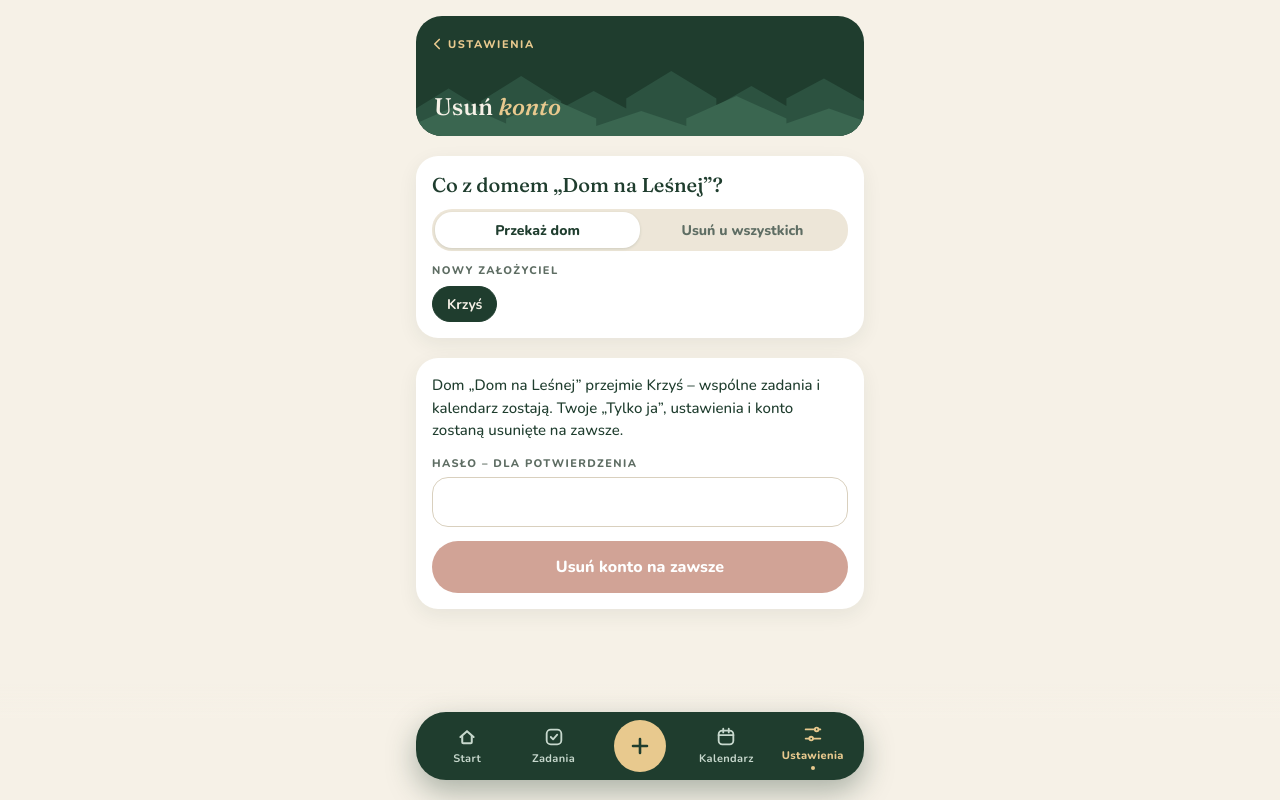
Test: złe hasło – komunikat, nic nie usunięte, zostajemy na ekranie
The width and height of the screenshot is (1280, 800).
In the password field labelled "HASŁO – DLA POTWIERDZENIA": (640, 502) [432, 476, 848, 526], type "zle"
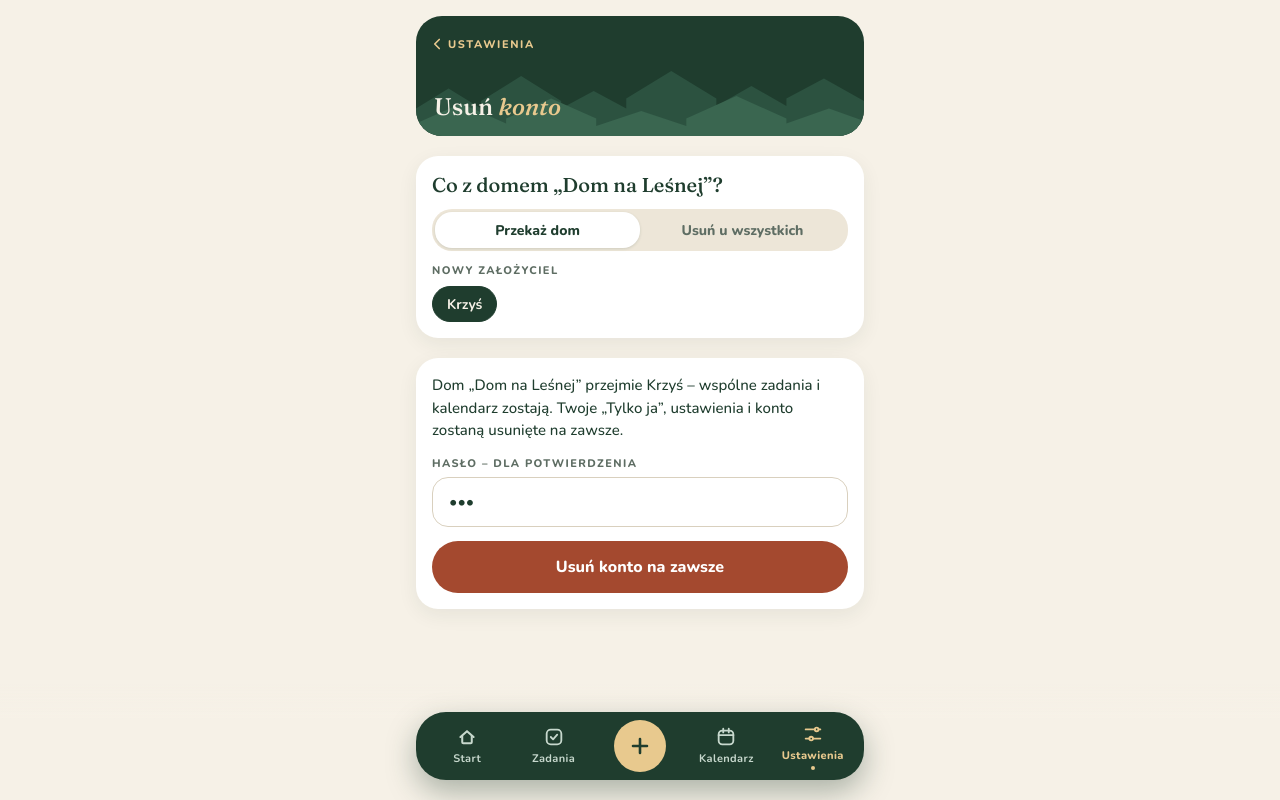
Click the button "Usuń konto na zawsze": (640, 566) [432, 540, 848, 592]
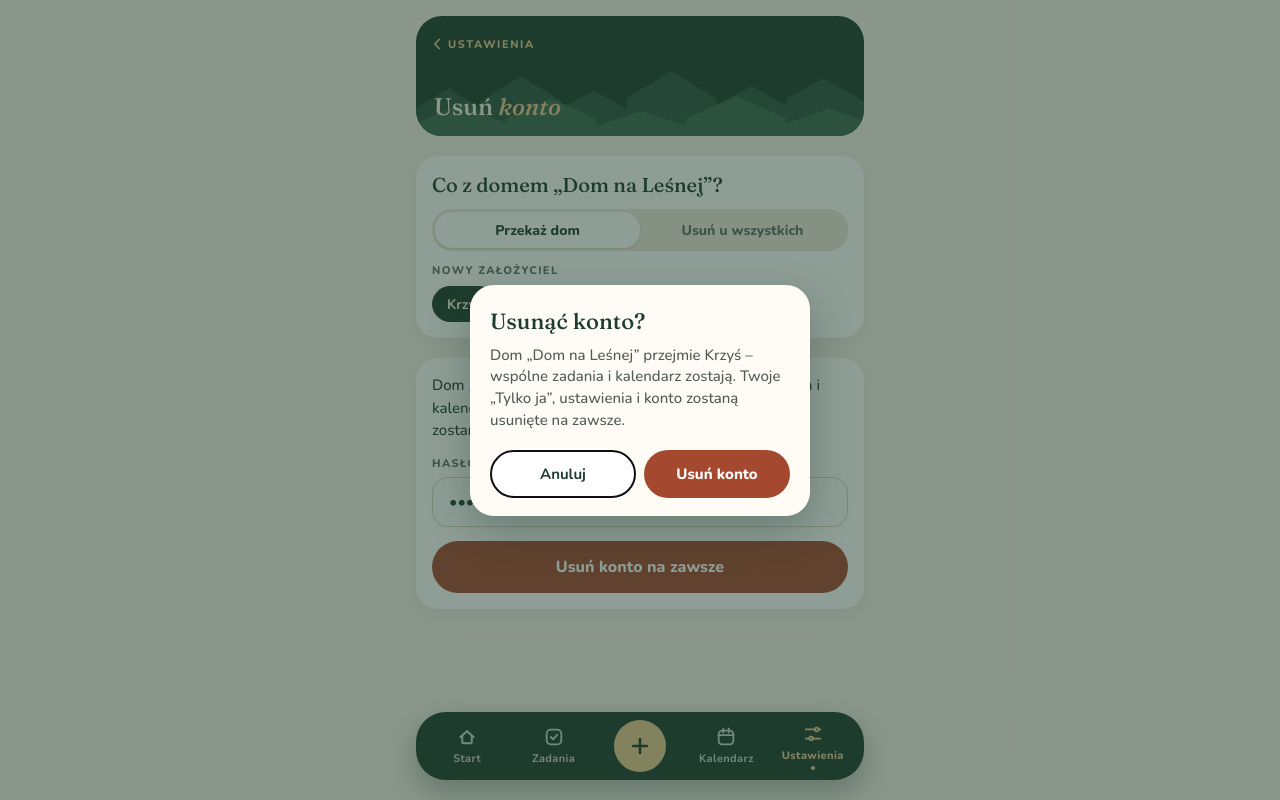
Click the button "Usuń konto": (717, 474) [644, 450, 790, 498]
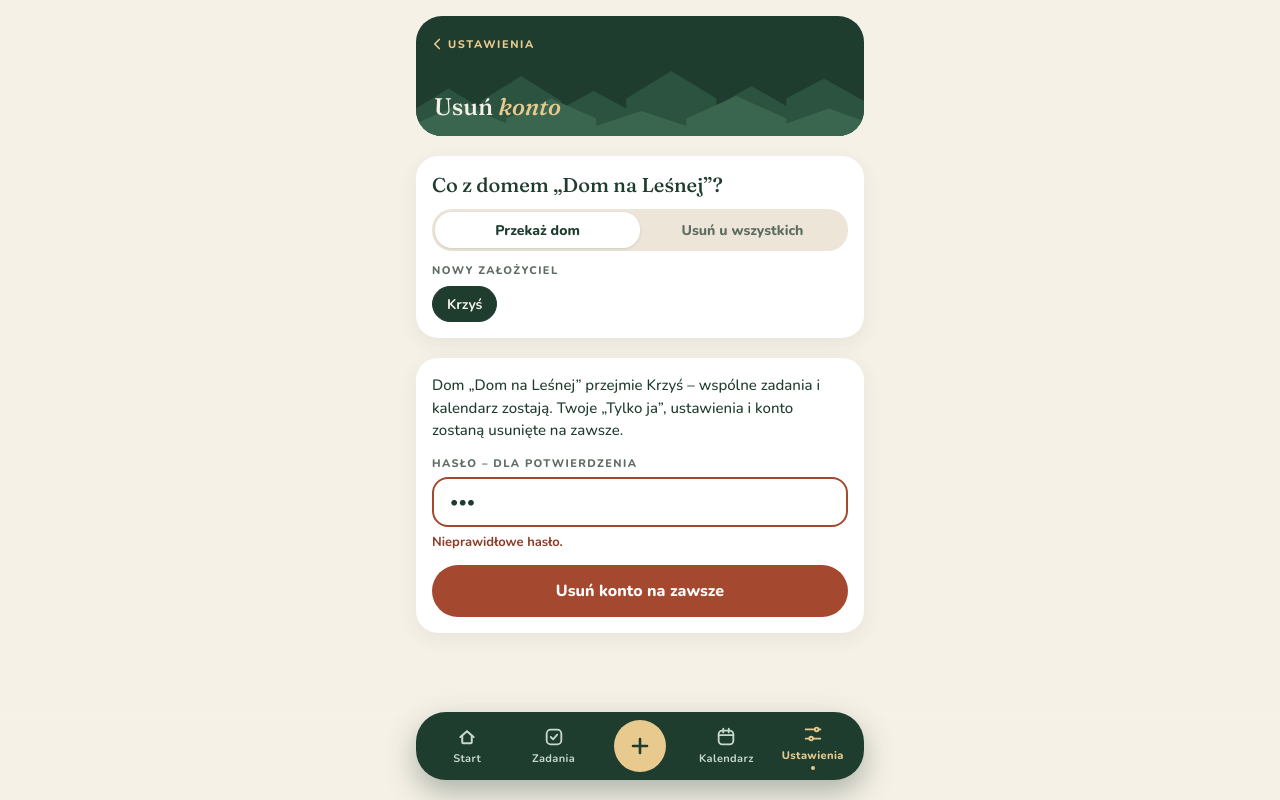
Expected: the text "Nieprawidłowe hasło." is shown, [432, 532, 563, 550]
